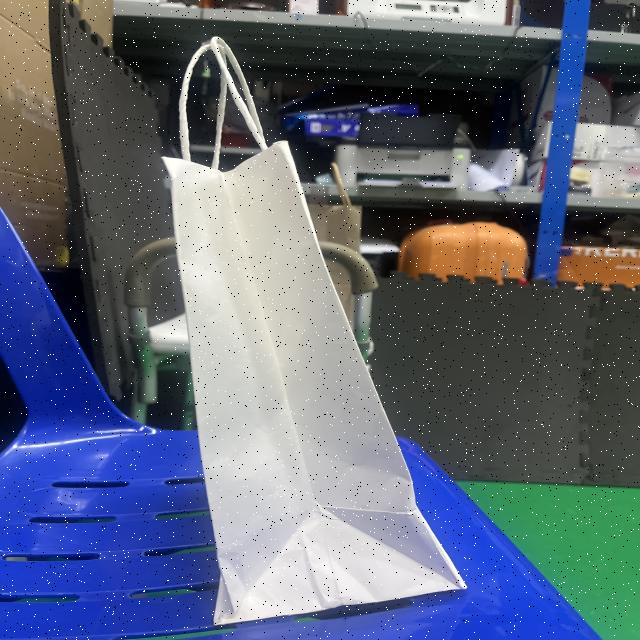paper bag: (125, 24, 493, 630)
